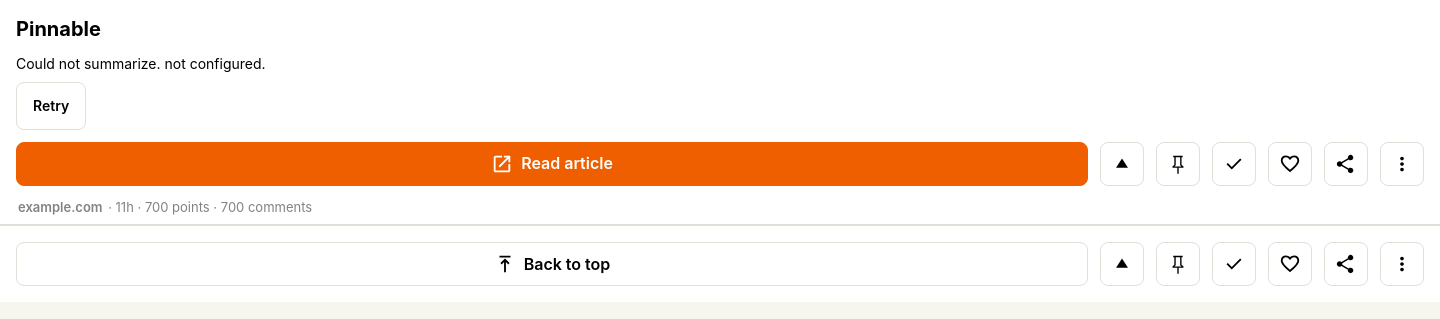
<Thread> › toggles pinned state via the Pin button on the bar
Check: the link "Pinnable" is shown, box [16,17,101,41]
Click the button with test id "thread-pin". click: (1178, 164)
box: [1156,142,1200,186]
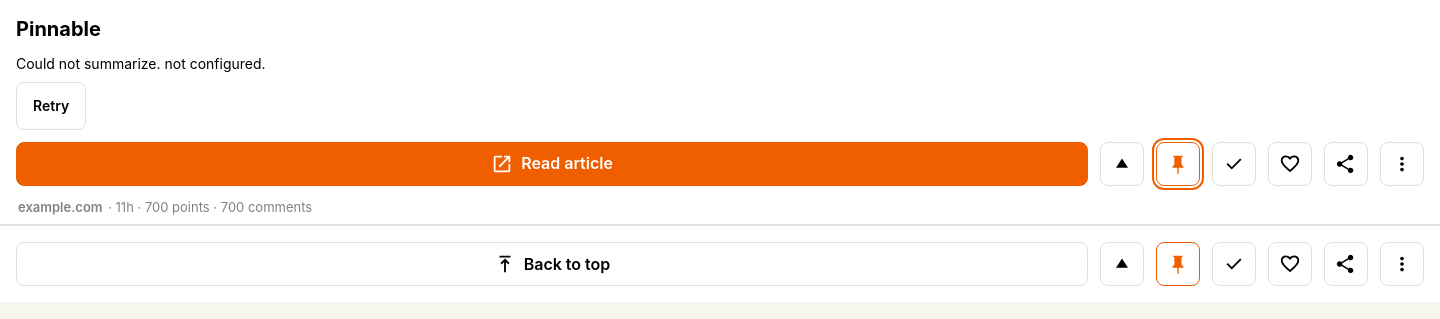
Check: the button with test id "thread-pin" is pressed
Click the button with test id "thread-pin". click: (1178, 164)
box: [1156,142,1200,186]
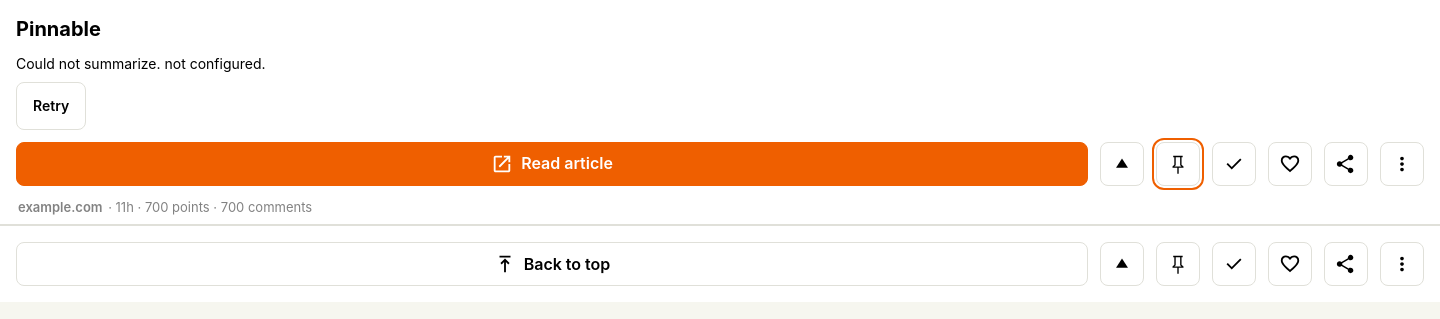
Check: the button with test id "thread-pin" is not pressed, box [1156,142,1200,186]
